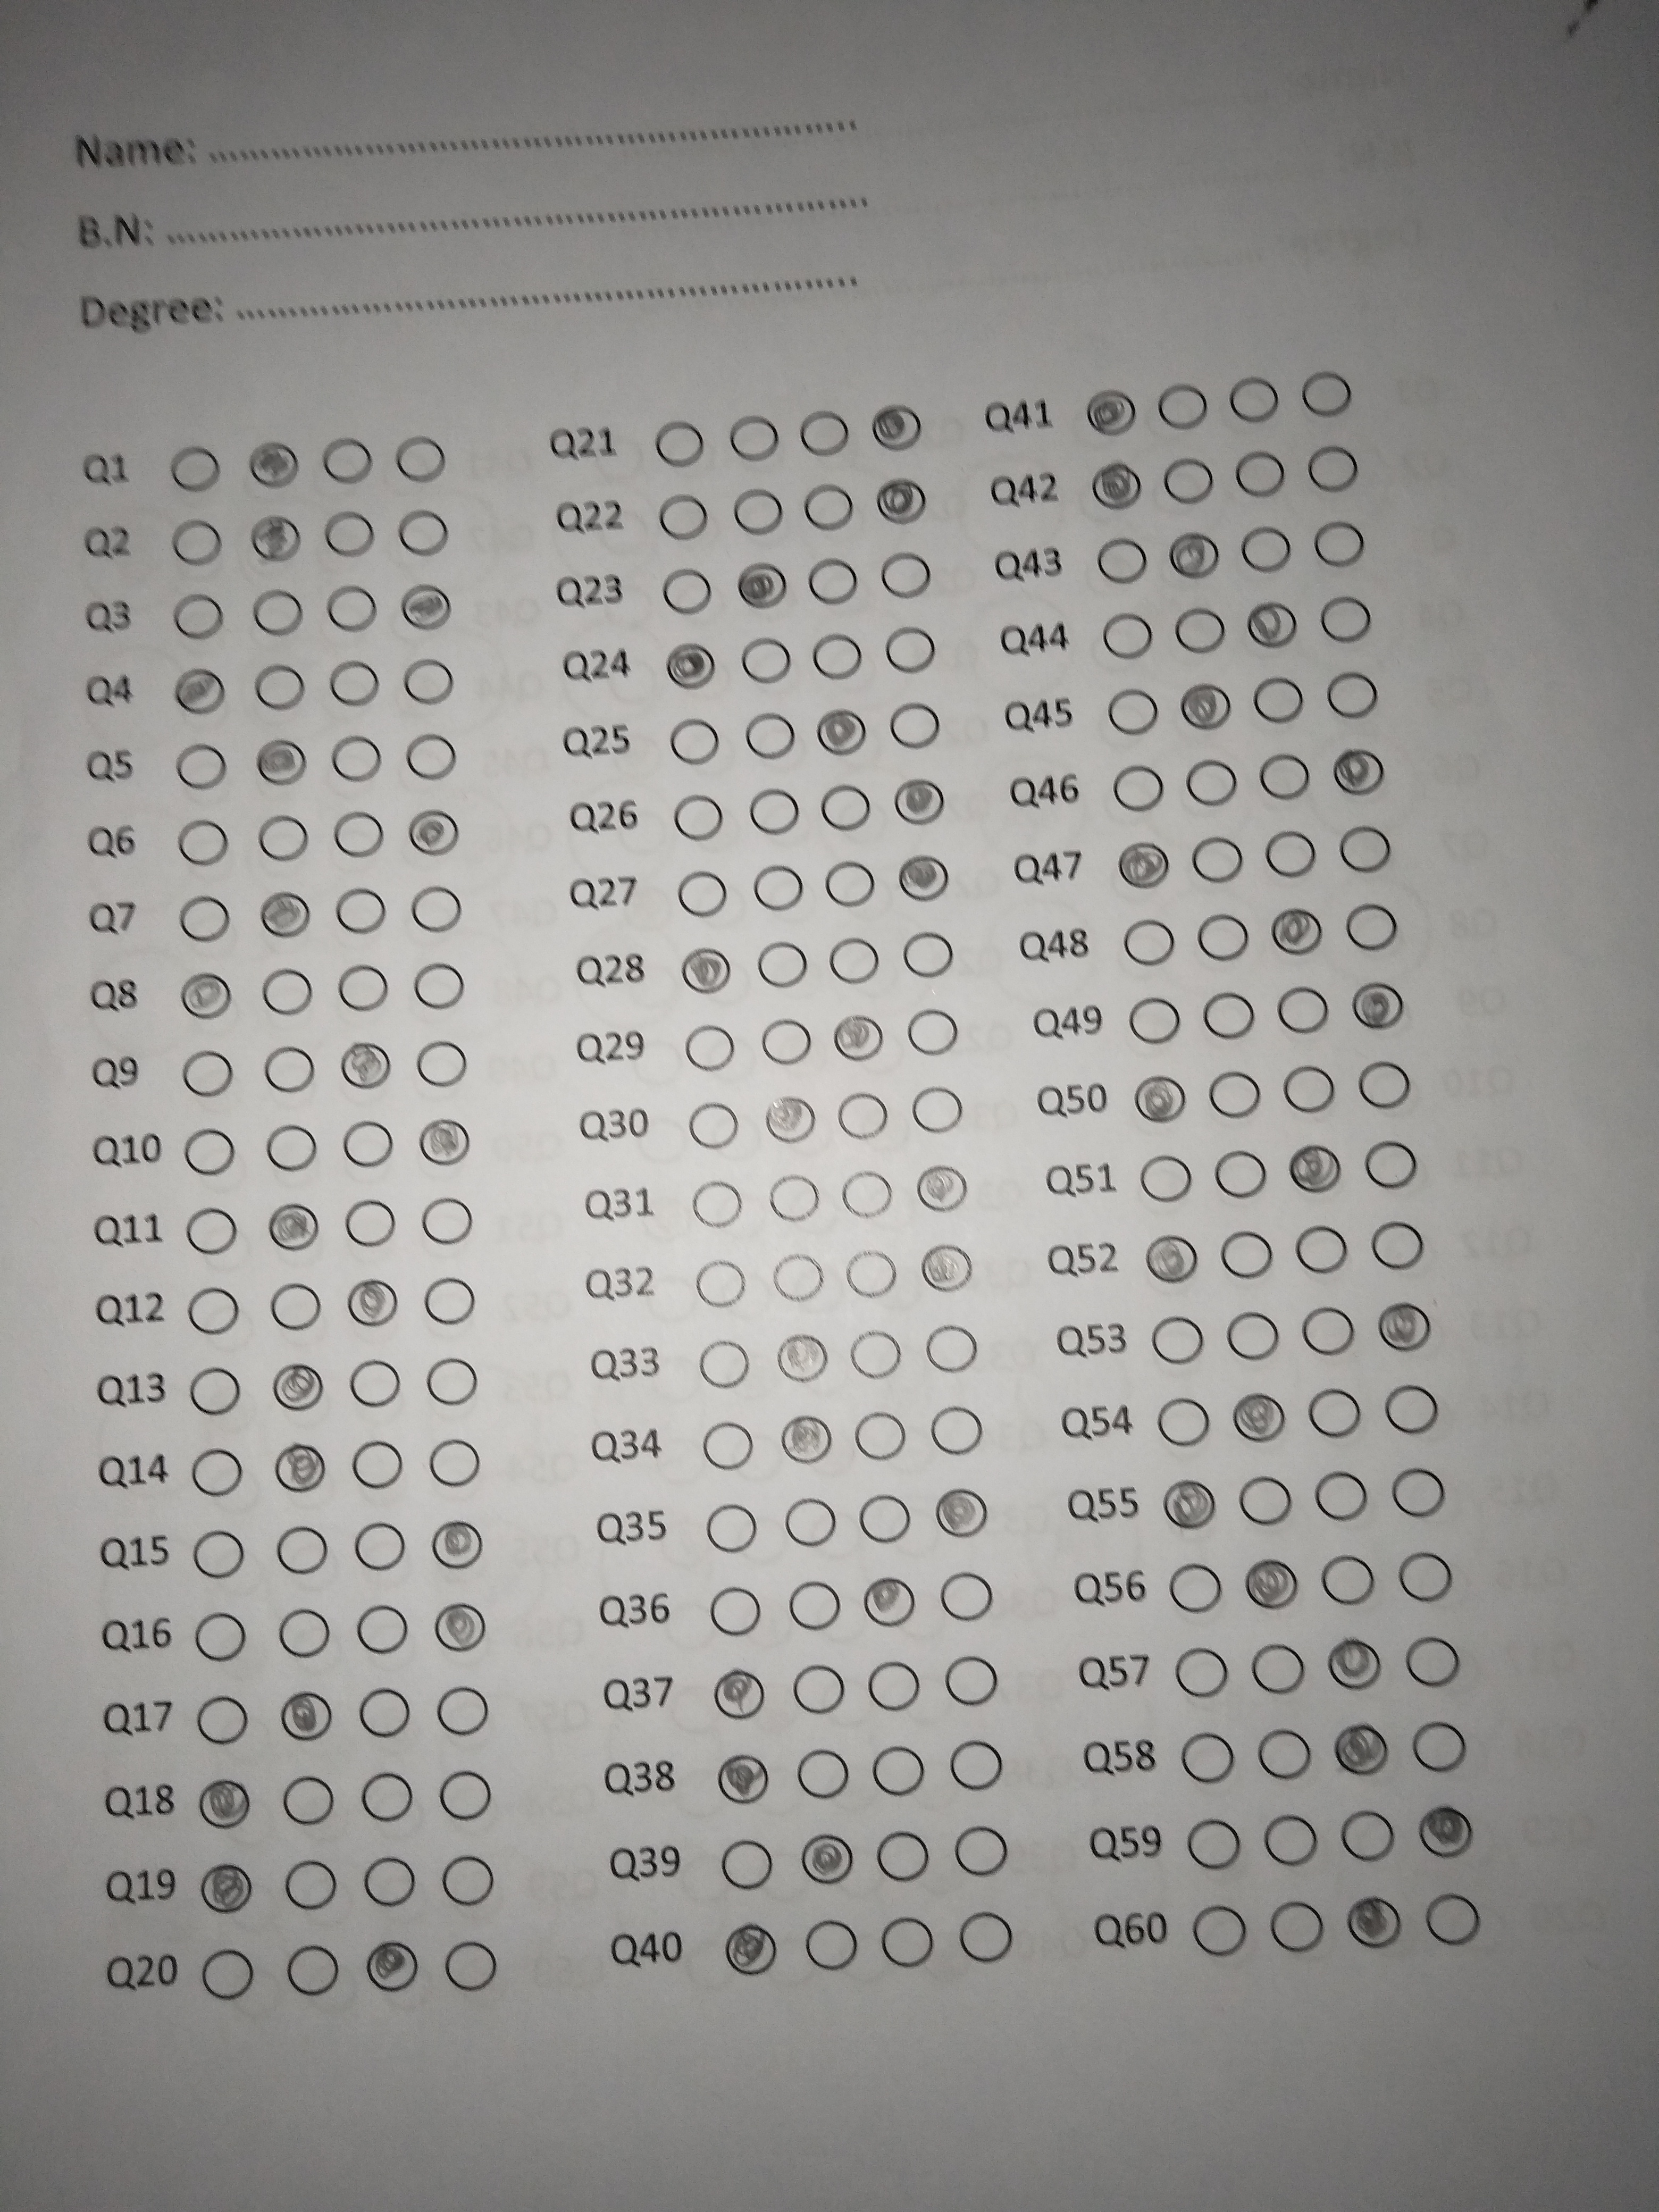not-c: (1385, 1460, 1455, 1529), (704, 1581, 775, 1646), (1420, 1886, 1492, 1951), (800, 1912, 866, 1980), (162, 514, 235, 575), (1140, 1312, 1216, 1369), (711, 1834, 779, 1898), (312, 428, 382, 491), (159, 435, 225, 500), (174, 1123, 242, 1186), (1175, 1728, 1243, 1791), (164, 589, 234, 650), (769, 1251, 833, 1315), (788, 1656, 852, 1721), (258, 1040, 321, 1106), (193, 1944, 260, 2006), (186, 1608, 256, 1667), (397, 650, 462, 712), (254, 963, 317, 1028), (281, 1942, 343, 2006), (880, 1909, 941, 1975), (1356, 1052, 1417, 1118), (1269, 1898, 1330, 1965), (667, 862, 735, 921), (1164, 1559, 1232, 1618), (247, 660, 317, 718), (166, 740, 235, 798), (1398, 1632, 1467, 1689), (246, 583, 310, 644), (416, 1191, 481, 1252), (345, 1437, 406, 1501), (789, 1745, 850, 1810), (1110, 759, 1171, 824), (1246, 1639, 1310, 1700), (1335, 1808, 1399, 1869), (387, 500, 453, 559), (1382, 1381, 1441, 1447), (1408, 1717, 1474, 1777), (349, 1601, 416, 1658), (955, 1820, 1012, 1888), (1133, 1150, 1201, 1207), (392, 427, 455, 488), (946, 1738, 1009, 1799), (1274, 979, 1337, 1040), (1317, 1552, 1380, 1613), (1258, 1724, 1321, 1785), (437, 1937, 502, 1996), (904, 1085, 969, 1144), (943, 1651, 1007, 1710), (957, 1905, 1016, 1970), (1279, 1064, 1344, 1123), (1290, 1223, 1354, 1282), (336, 956, 394, 1022), (777, 1496, 845, 1552), (185, 1527, 254, 1581), (662, 791, 734, 843), (413, 1036, 474, 1097), (425, 1352, 486, 1413), (922, 1322, 985, 1381), (939, 1568, 1002, 1627), (875, 1827, 934, 1890), (1316, 590, 1378, 650), (1152, 1393, 1215, 1453), (1310, 1465, 1373, 1524), (411, 960, 469, 1024), (350, 1686, 415, 1743), (352, 1771, 416, 1829), (657, 564, 721, 622), (694, 1418, 758, 1475), (1396, 1547, 1460, 1604), (1171, 1646, 1236, 1703), (331, 725, 387, 791), (1201, 1068, 1269, 1122), (256, 812, 317, 871), (904, 1001, 965, 1061), (1185, 1817, 1246, 1876), (179, 1047, 242, 1104), (347, 1355, 410, 1413), (769, 1172, 826, 1235), (1260, 826, 1323, 883), (1359, 1137, 1422, 1195), (1260, 1811, 1323, 1869), (321, 577, 385, 632), (173, 813, 237, 869), (699, 1498, 763, 1554), (1103, 686, 1168, 742), (260, 1122, 326, 1176), (186, 1695, 253, 1749), (176, 1205, 244, 1258), (1338, 904, 1406, 956), (1115, 918, 1185, 968), (859, 1489, 918, 1548), (1213, 1144, 1272, 1204), (425, 1437, 483, 1498), (864, 1656, 925, 1714), (338, 1195, 401, 1251), (1152, 378, 1215, 434), (401, 881, 465, 935), (186, 1444, 251, 1498), (272, 1606, 336, 1660), (437, 1855, 504, 1907), (1194, 913, 1260, 965), (171, 897, 239, 948), (742, 709, 802, 766), (1201, 988, 1260, 1045), (1192, 1900, 1251, 1958), (186, 1282, 247, 1338), (354, 1521, 415, 1576), (878, 625, 939, 681), (854, 1409, 915, 1465), (1100, 608, 1161, 664), (1370, 1217, 1431, 1273), (1126, 993, 1188, 1047), (873, 550, 938, 603), (692, 1256, 756, 1308), (694, 1339, 758, 1392), (1323, 671, 1387, 723), (333, 885, 390, 942), (268, 1280, 326, 1338), (434, 1684, 491, 1742), (810, 632, 868, 690), (1236, 1470, 1293, 1527), (282, 1858, 342, 1914), (1188, 831, 1248, 887), (1220, 1226, 1279, 1282), (1307, 1385, 1363, 1444), (317, 505, 378, 559), (666, 714, 727, 768), (1303, 444, 1364, 498), (432, 1770, 495, 1822), (357, 1855, 420, 1907), (652, 415, 714, 467), (836, 1087, 889, 1150), (838, 1172, 901, 1224), (1091, 533, 1154, 585), (401, 732, 465, 782), (683, 1101, 748, 1151), (1232, 523, 1298, 571), (657, 491, 714, 547), (826, 935, 884, 991), (843, 1247, 899, 1305), (1173, 603, 1229, 660), (1183, 758, 1239, 815), (1338, 820, 1396, 876), (868, 1743, 927, 1797), (748, 786, 800, 846), (737, 634, 800, 685), (927, 1406, 990, 1456), (1229, 451, 1293, 500), (282, 1773, 338, 1829), (756, 937, 812, 993), (1303, 1305, 1359, 1360), (185, 1366, 246, 1416), (885, 704, 946, 754), (329, 653, 383, 709), (333, 808, 387, 864), (342, 1116, 397, 1170), (824, 859, 878, 914), (1225, 1308, 1281, 1362), (275, 1522, 333, 1575), (753, 860, 805, 918), (420, 1277, 479, 1327), (690, 1179, 749, 1230), (1309, 519, 1368, 570), (795, 409, 857, 456), (730, 481, 782, 536), (1161, 455, 1216, 507), (802, 482, 859, 533), (1300, 369, 1358, 420), (756, 1017, 816, 1066), (904, 930, 957, 984), (1229, 374, 1283, 427), (683, 1022, 739, 1073), (1249, 676, 1307, 725), (807, 556, 861, 606), (821, 780, 871, 834), (850, 1327, 901, 1381), (1258, 751, 1314, 799), (727, 415, 786, 460), (789, 1578, 842, 1629)
taken-c: (1331, 1719, 1392, 1778), (1417, 1803, 1476, 1860), (1324, 1635, 1384, 1691), (362, 1939, 420, 1994), (723, 1919, 779, 1977), (1241, 1555, 1298, 1611), (1347, 1895, 1405, 1951), (796, 1832, 856, 1886), (432, 1599, 488, 1655), (199, 1860, 254, 1916), (416, 1115, 474, 1169), (277, 1689, 335, 1743), (1377, 1299, 1434, 1353), (1230, 1390, 1288, 1444), (1267, 906, 1326, 958), (1141, 1233, 1201, 1285), (1161, 1479, 1220, 1531), (336, 1036, 392, 1090), (267, 1198, 321, 1254), (429, 1515, 483, 1571), (716, 1752, 772, 1806), (934, 1484, 990, 1538), (1352, 977, 1406, 1033), (171, 665, 228, 718), (268, 1359, 326, 1411), (199, 1775, 251, 1832), (873, 475, 931, 528), (1089, 462, 1147, 514), (1286, 1143, 1344, 1195), (863, 1575, 917, 1629), (814, 704, 868, 758), (870, 401, 924, 455), (343, 1277, 399, 1329), (272, 1442, 328, 1494), (1331, 745, 1387, 798), (1117, 840, 1173, 892), (1131, 1073, 1187, 1125), (251, 737, 308, 787), (254, 888, 312, 939), (249, 512, 303, 564), (713, 1669, 765, 1723), (779, 1413, 833, 1465), (777, 1331, 831, 1383), (892, 775, 946, 827), (1166, 528, 1220, 580), (246, 439, 301, 489), (397, 582, 453, 632), (179, 970, 235, 1021), (662, 641, 718, 691), (762, 1096, 819, 1144), (833, 1012, 885, 1064), (406, 808, 460, 859), (915, 1163, 969, 1214), (680, 944, 734, 995), (897, 852, 951, 902), (735, 561, 789, 611), (1244, 597, 1298, 648), (1178, 681, 1234, 730), (1084, 385, 1136, 435), (920, 1244, 974, 1292)
